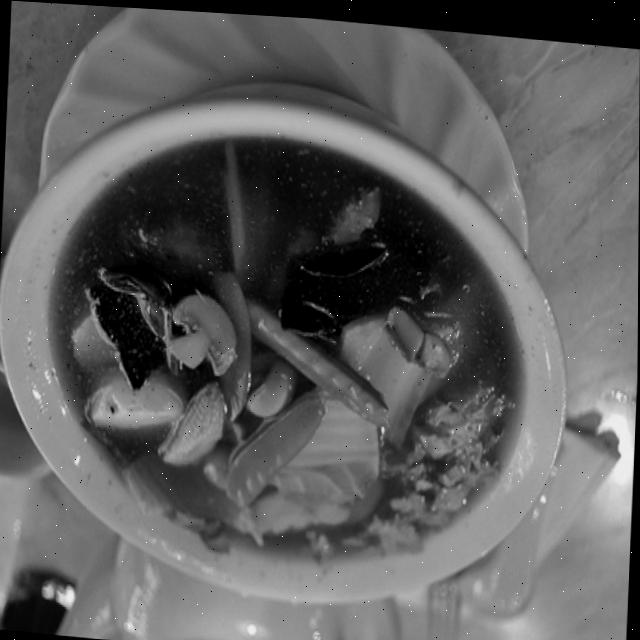面条主食: (37, 116, 523, 559)
